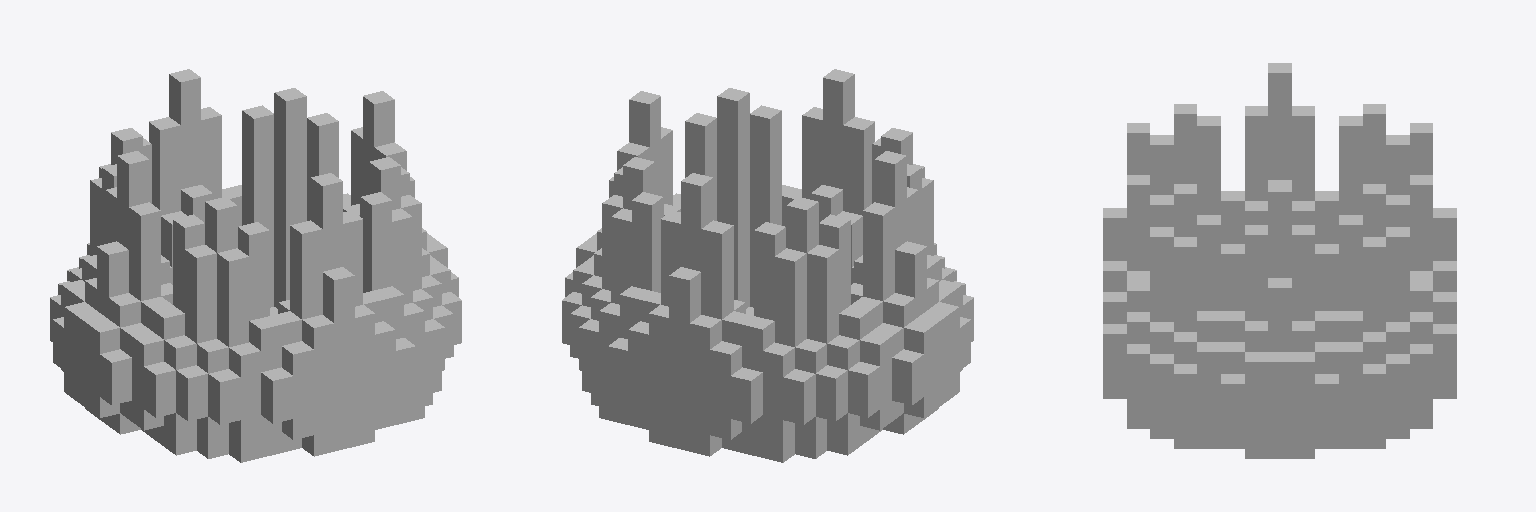
The model's file is korona_korolya.obj.
3 renders of one model, left to right at view 1: azimuth 30°, elevation 25°; view 2: azimuth 150°, elevation 25°; view 3: azimuth 270°, elevation 25°, orthographic.
Visible parts, largest first — view 1: Cubik_Model; view 2: Cubik_Model; view 3: Cubik_Model.
Part boxes in pixels (left/top/right/bottom): Cubik_Model: left=50, top=69, right=461, bottom=462; Cubik_Model: left=562, top=69, right=973, bottom=462; Cubik_Model: left=1103, top=63, right=1456, bottom=458.
Size of the model in its own units: 17 by 12 by 15.